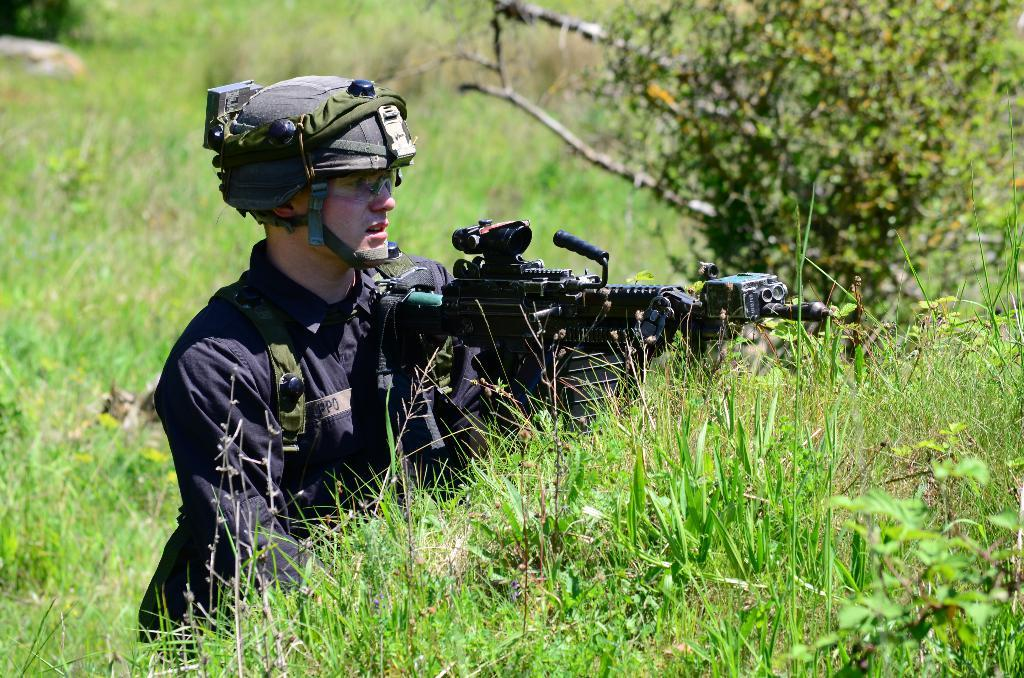Rifle: (366, 216, 841, 506)
